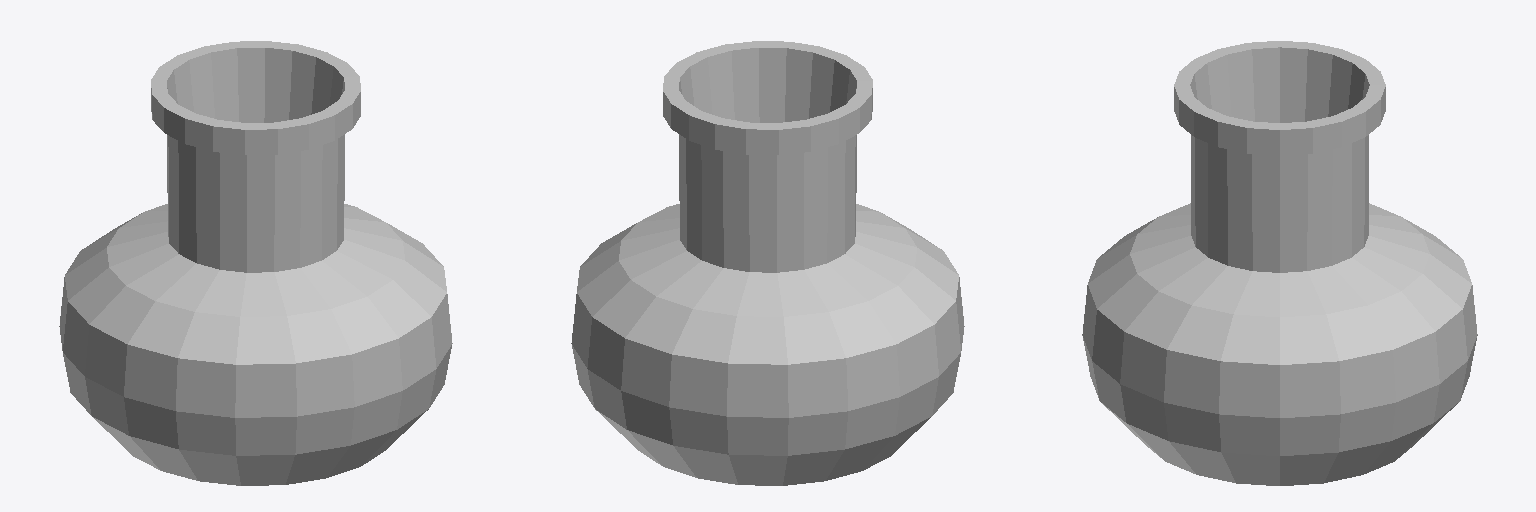
The model's file is jar_2.obj.
3 renders of one model, left to right at view 1: azimuth 30°, elevation 25°; view 2: azimuth 150°, elevation 25°; view 3: azimuth 270°, elevation 25°, orthographic.
Parts seen in each view (by area): view 1: pasted__glass1; view 2: pasted__glass1; view 3: pasted__glass1.
Part boxes in pixels (x1,y1,x2,y2): pasted__glass1: (59,41,452,485); pasted__glass1: (571,41,964,485); pasted__glass1: (1082,41,1477,485).
Bounding box in the file's own units: 0.4408 × 0.42 × 0.4408.